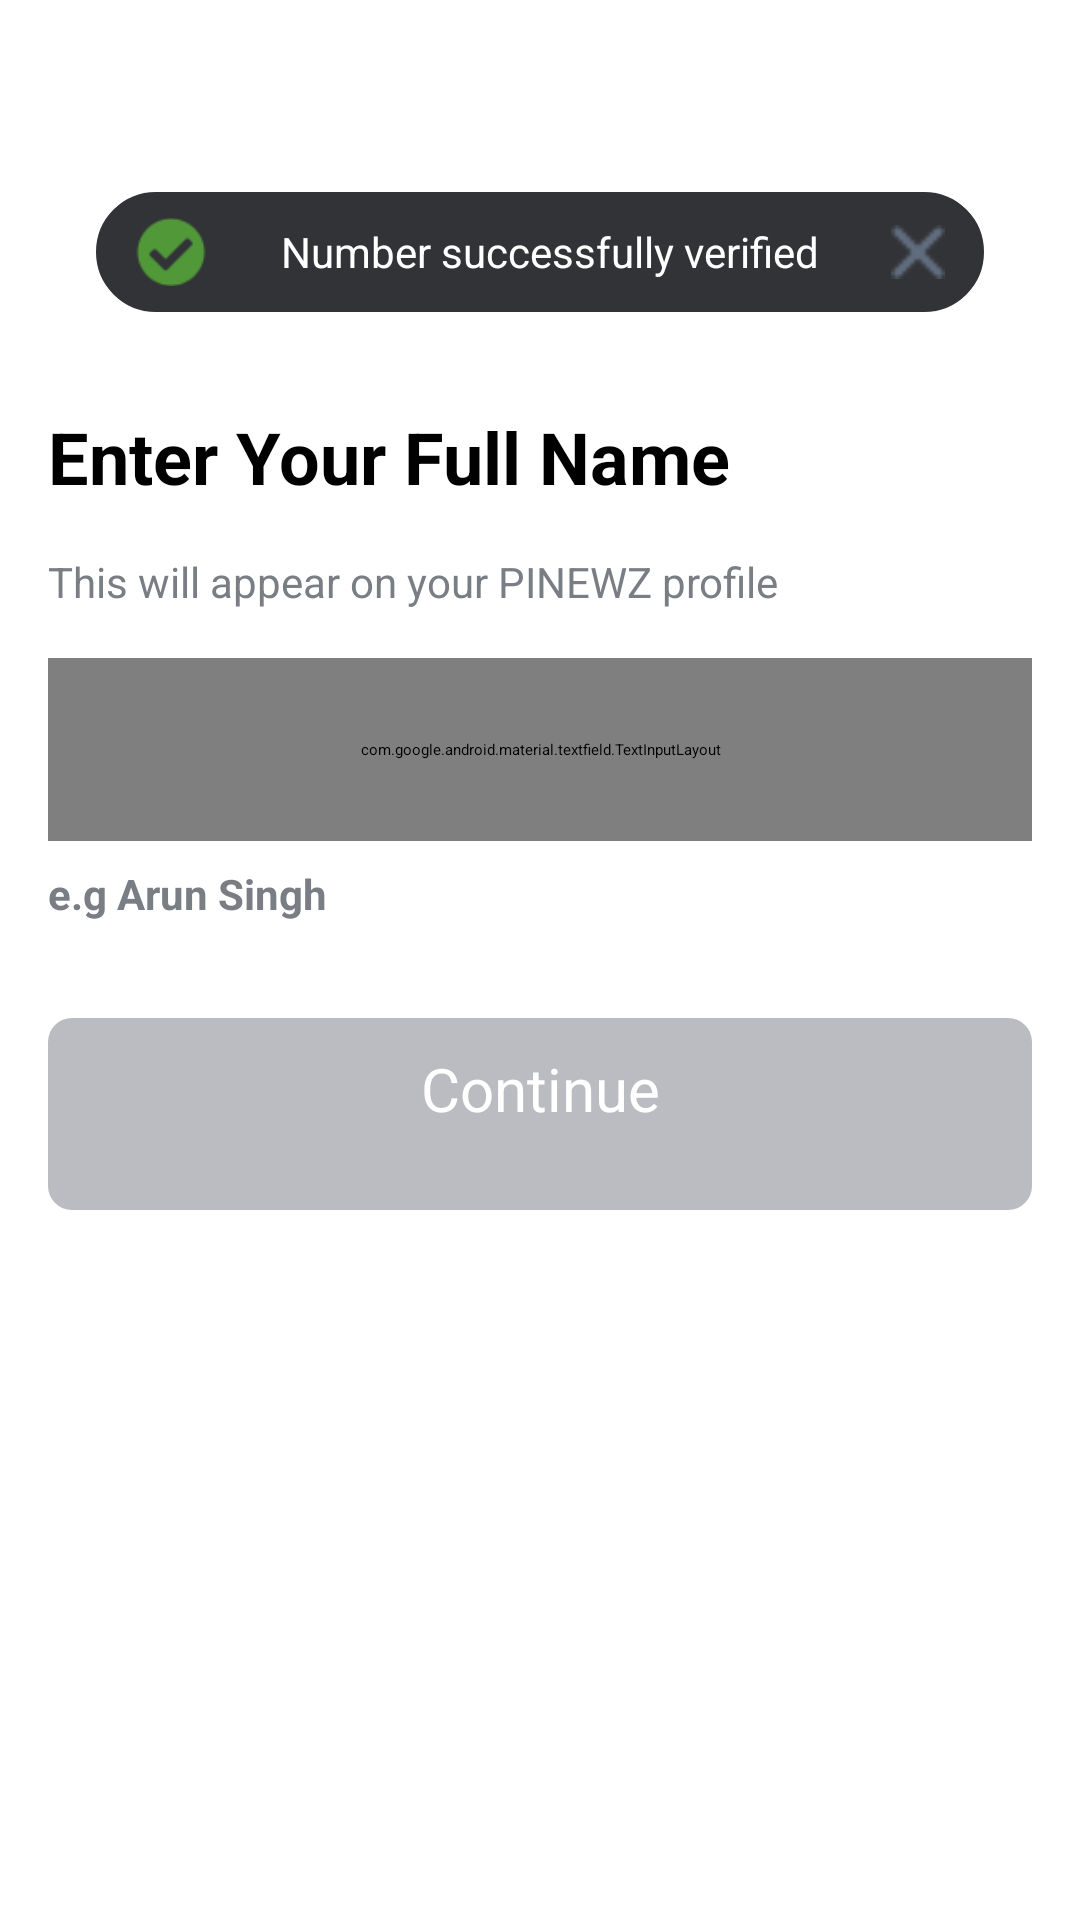

Icons on this 1080x1920 Android screen, each with the point to tap as point (x, y):
Close: point (918, 252)
